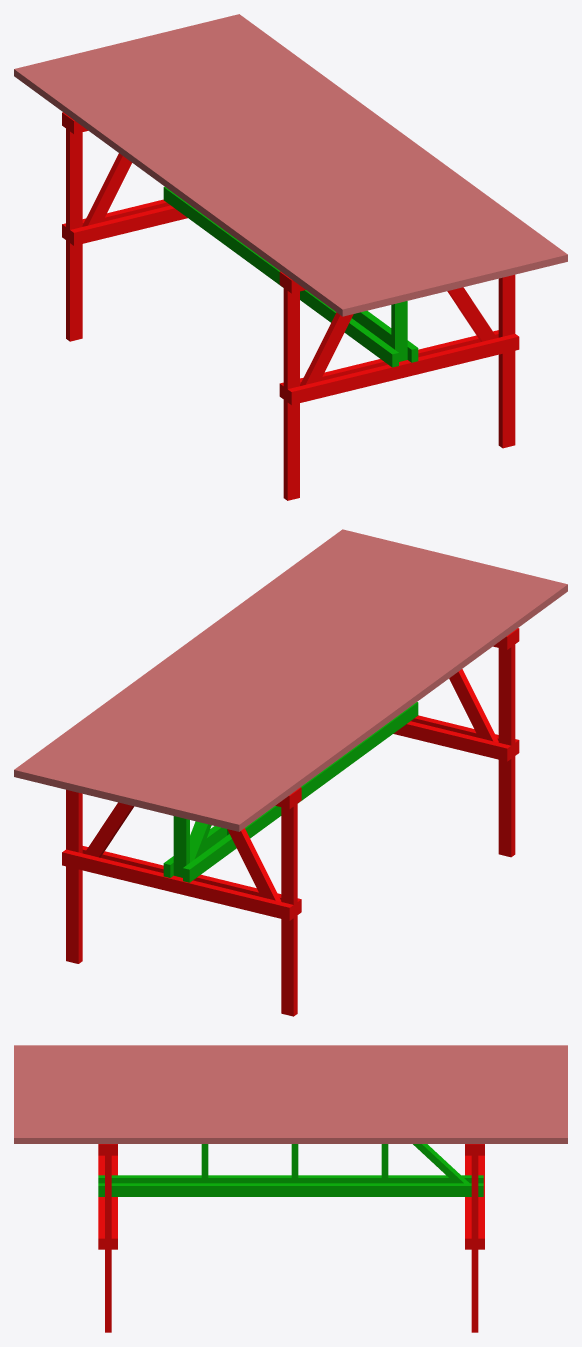
Rendered from result.glb.
3 renders of one model, top to bottom at view 1: azimuth 30°, elevation 25°; view 2: azimuth 150°, elevation 25°; view 3: azimuth 270°, elevation 25°, orthographic. The views are drawn at different scales.
Visible parts, largest first — view 1: 2e0641f8-5030-457c-9aa7-cf57e877bb61__Box, fb4fa2b6-4d4b-48b1-bda8-e41c870a9414__undefined, 10133d1a-44c4-451f-8b48-6abfd513f897__undefined, adf0b2c5-f914-4fa1-b04f-ea8a5f524049__undefined, a85f7289-0abf-4700-b107-77bb1b54e256__undefined, a1463af9-73b5-43bf-8b7e-9ac610542e1b__undefined, a85f7c77-fc94-440f-acae-d723731a23b1__undefined, fa9bbca1-6842-4955-8879-f8ea967a583c__undefined, 99ffc3d0-fa1a-401c-9b8e-db7fd30cd79d__undefined, 52a67cd1-370e-40a1-9dc5-0e7fe635e0e6__undefined, a3e53b2e-e1ea-45df-8fa0-3321ae9c2991__undefined, cf28170a-7640-462d-8994-3c2039584da4__undefined (+19 smaller); view 2: 2e0641f8-5030-457c-9aa7-cf57e877bb61__Box, fb4fa2b6-4d4b-48b1-bda8-e41c870a9414__undefined, 10133d1a-44c4-451f-8b48-6abfd513f897__undefined, a85f7289-0abf-4700-b107-77bb1b54e256__undefined, adf0b2c5-f914-4fa1-b04f-ea8a5f524049__undefined, a1463af9-73b5-43bf-8b7e-9ac610542e1b__undefined, 99ffc3d0-fa1a-401c-9b8e-db7fd30cd79d__undefined, fa9bbca1-6842-4955-8879-f8ea967a583c__undefined, cf28170a-7640-462d-8994-3c2039584da4__undefined, 87f15038-a0ce-4408-9a2b-a5089bae1652__undefined, 888203f5-7f73-4886-9883-629f4ade15d1__undefined, be83bd82-7391-45a4-9948-95a2adff7b96__undefined (+18 smaller); view 3: 7194675c-1db4-4d30-baa3-582d62fb175d__undefined, b9e56982-e632-46a7-9d57-0909d0efca98__strutH, 2e0641f8-5030-457c-9aa7-cf57e877bb61__Box, cf28170a-7640-462d-8994-3c2039584da4__undefined, fb4fa2b6-4d4b-48b1-bda8-e41c870a9414__undefined, 87f15038-a0ce-4408-9a2b-a5089bae1652__undefined, 10133d1a-44c4-451f-8b48-6abfd513f897__undefined, 99ffc3d0-fa1a-401c-9b8e-db7fd30cd79d__undefined, adf0b2c5-f914-4fa1-b04f-ea8a5f524049__undefined, be83bd82-7391-45a4-9948-95a2adff7b96__undefined, a1463af9-73b5-43bf-8b7e-9ac610542e1b__undefined, 095fb87a-ba5e-433a-a466-3d54695d88bd__undefined (+15 smaller).
Boxes of the visible parts, left/top/right/bottom form: 2e0641f8-5030-457c-9aa7-cf57e877bb61__Box: left=14, top=66, right=354, bottom=316; fb4fa2b6-4d4b-48b1-bda8-e41c870a9414__undefined: left=39, top=60, right=380, bottom=310; 10133d1a-44c4-451f-8b48-6abfd513f897__undefined: left=89, top=47, right=430, bottom=298; adf0b2c5-f914-4fa1-b04f-ea8a5f524049__undefined: left=114, top=41, right=455, bottom=291; a85f7289-0abf-4700-b107-77bb1b54e256__undefined: left=64, top=54, right=405, bottom=304; a1463af9-73b5-43bf-8b7e-9ac610542e1b__undefined: left=139, top=35, right=480, bottom=285; a85f7c77-fc94-440f-acae-d723731a23b1__undefined: left=152, top=32, right=492, bottom=282; fa9bbca1-6842-4955-8879-f8ea967a583c__undefined: left=214, top=17, right=555, bottom=267; 99ffc3d0-fa1a-401c-9b8e-db7fd30cd79d__undefined: left=102, top=44, right=442, bottom=295; 52a67cd1-370e-40a1-9dc5-0e7fe635e0e6__undefined: left=177, top=26, right=517, bottom=276; a3e53b2e-e1ea-45df-8fa0-3321ae9c2991__undefined: left=202, top=20, right=542, bottom=270; cf28170a-7640-462d-8994-3c2039584da4__undefined: left=27, top=63, right=367, bottom=313; 2e0641f8-5030-457c-9aa7-cf57e877bb61__Box: left=227, top=581, right=567, bottom=831; fb4fa2b6-4d4b-48b1-bda8-e41c870a9414__undefined: left=201, top=575, right=542, bottom=825; 10133d1a-44c4-451f-8b48-6abfd513f897__undefined: left=151, top=563, right=492, bottom=813; a85f7289-0abf-4700-b107-77bb1b54e256__undefined: left=176, top=569, right=517, bottom=819; adf0b2c5-f914-4fa1-b04f-ea8a5f524049__undefined: left=126, top=557, right=467, bottom=807; a1463af9-73b5-43bf-8b7e-9ac610542e1b__undefined: left=101, top=550, right=442, bottom=801; 99ffc3d0-fa1a-401c-9b8e-db7fd30cd79d__undefined: left=139, top=560, right=479, bottom=810; fa9bbca1-6842-4955-8879-f8ea967a583c__undefined: left=26, top=532, right=367, bottom=782; cf28170a-7640-462d-8994-3c2039584da4__undefined: left=214, top=578, right=554, bottom=828; 87f15038-a0ce-4408-9a2b-a5089bae1652__undefined: left=189, top=572, right=529, bottom=822; 888203f5-7f73-4886-9883-629f4ade15d1__undefined: left=164, top=566, right=504, bottom=816; be83bd82-7391-45a4-9948-95a2adff7b96__undefined: left=114, top=554, right=454, bottom=804; 7194675c-1db4-4d30-baa3-582d62fb175d__undefined: left=14, top=1132, right=567, bottom=1143; b9e56982-e632-46a7-9d57-0909d0efca98__strutH: left=98, top=1183, right=483, bottom=1196; 2e0641f8-5030-457c-9aa7-cf57e877bb61__Box: left=14, top=1045, right=567, bottom=1050; cf28170a-7640-462d-8994-3c2039584da4__undefined: left=14, top=1050, right=567, bottom=1055; fb4fa2b6-4d4b-48b1-bda8-e41c870a9414__undefined: left=14, top=1055, right=567, bottom=1060; 87f15038-a0ce-4408-9a2b-a5089bae1652__undefined: left=14, top=1060, right=567, bottom=1065; 10133d1a-44c4-451f-8b48-6abfd513f897__undefined: left=14, top=1076, right=567, bottom=1081; 99ffc3d0-fa1a-401c-9b8e-db7fd30cd79d__undefined: left=14, top=1081, right=567, bottom=1086; adf0b2c5-f914-4fa1-b04f-ea8a5f524049__undefined: left=14, top=1086, right=567, bottom=1091; be83bd82-7391-45a4-9948-95a2adff7b96__undefined: left=14, top=1091, right=567, bottom=1096; a1463af9-73b5-43bf-8b7e-9ac610542e1b__undefined: left=14, top=1096, right=567, bottom=1101; 095fb87a-ba5e-433a-a466-3d54695d88bd__undefined: left=14, top=1107, right=567, bottom=1112.
Bounding box in the file's own units: 800 × 774 × 2000.
